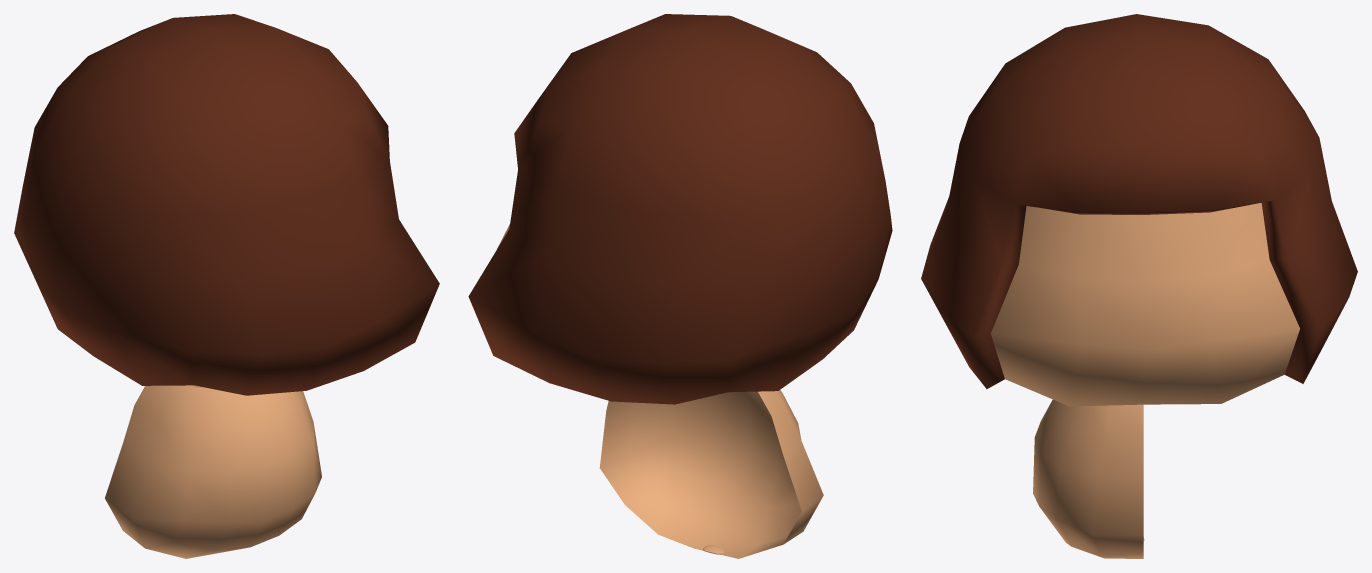
The model's file is cutegirl.glb.
3 renders of one model, left to right at view 1: azimuth 30°, elevation 25°; view 2: azimuth 150°, elevation 25°; view 3: azimuth 270°, elevation 25°, orthographic. The views are drawn at different scales.
Parts seen in each view (by area): view 1: Cube.005, Cube.001; view 2: Cube.005, Cube.001; view 3: Cube.005, Cube, Cube.001.
Part boxes in pixels (x1,y1,x2,y2): Cube.005: [14, 14, 439, 395]; Cube.001: [105, 385, 321, 558]; Cube.005: [468, 14, 892, 404]; Cube.001: [599, 390, 823, 558]; Cube.005: [921, 14, 1357, 388]; Cube: [991, 203, 1299, 406]; Cube.001: [1033, 399, 1143, 558].
Bounding box in the file's own units: 1.92 × 2.77 × 2.13.
